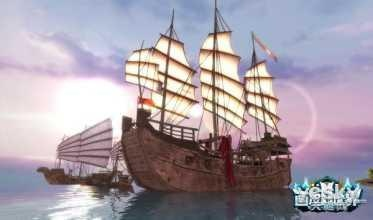fanchuan: (129, 3, 297, 193), (38, 120, 122, 188)
